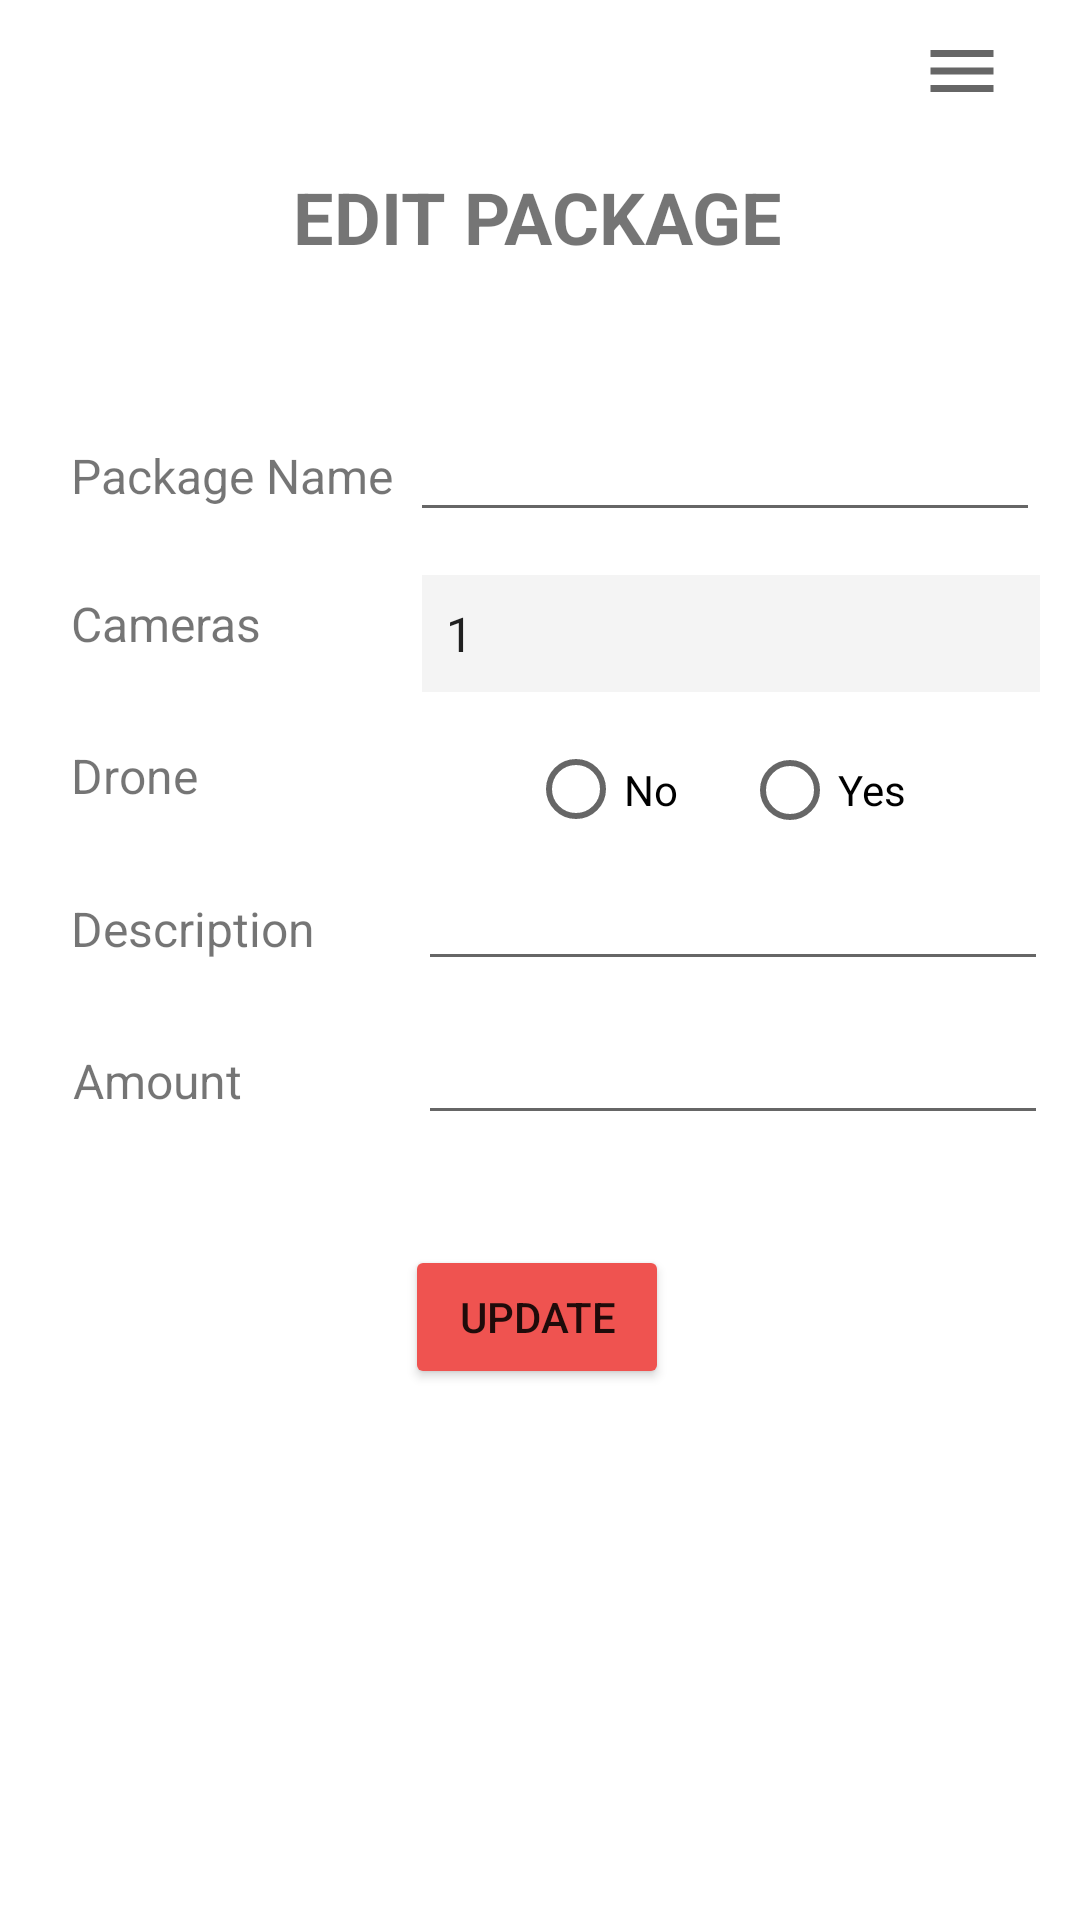

Named icons in this screenshot (1080w x 1920h) and their centers, point (x, y):
menu: point (962, 71)
